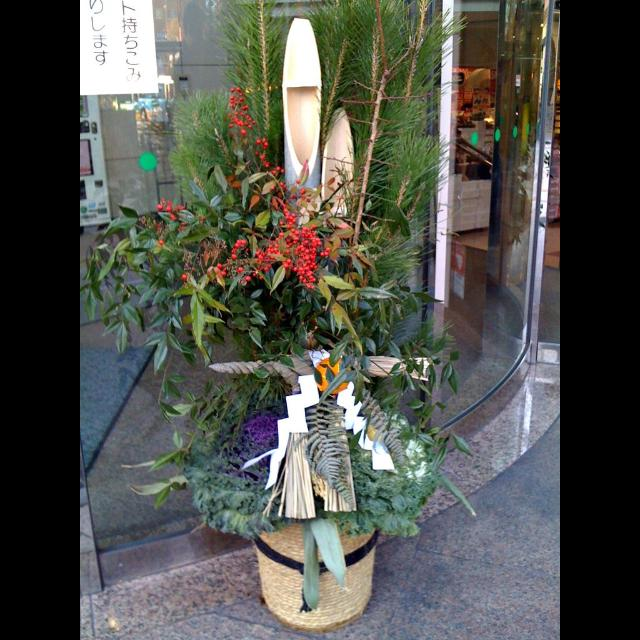Flower: (216, 410, 286, 488), (391, 463, 429, 489), (407, 437, 428, 463)
